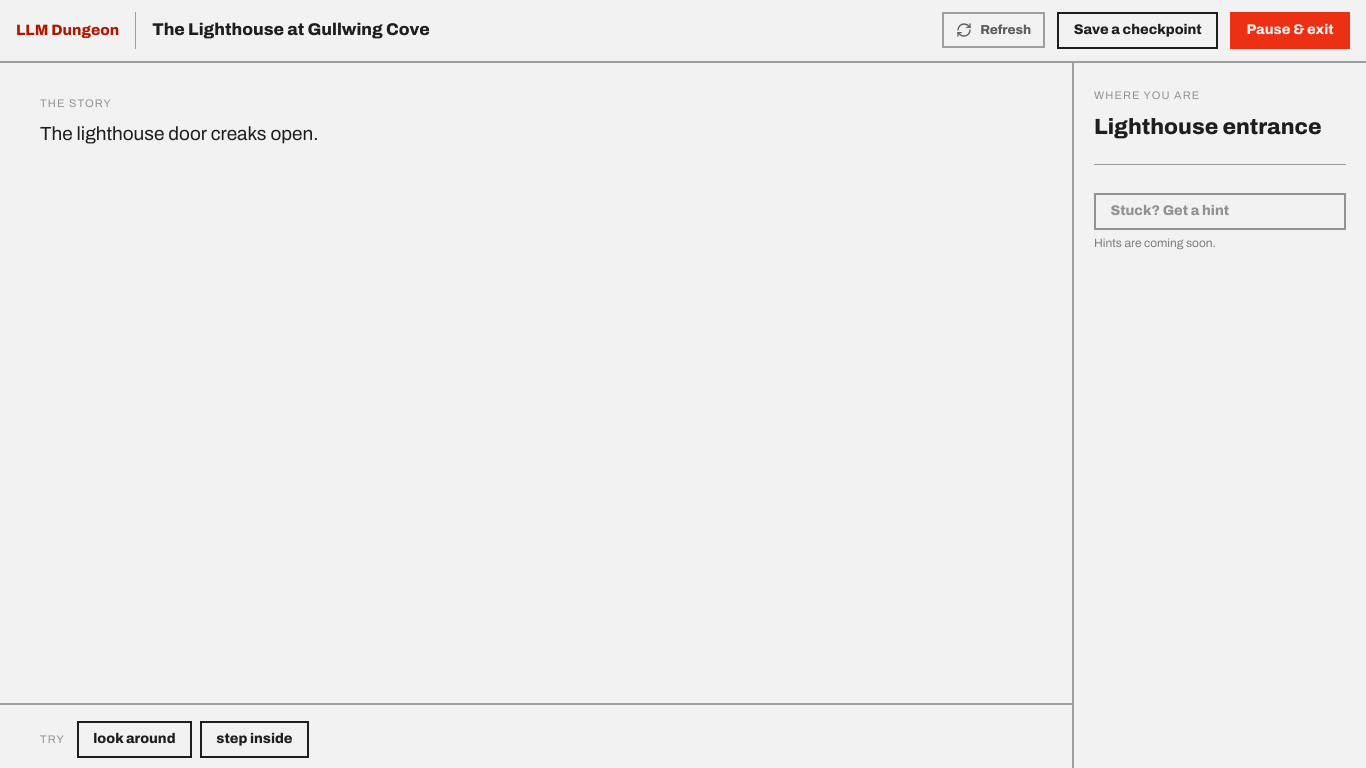
Test case: PlayPage (008-core-gameplay-done) › re-fetches the session and replaces the transcript on a successful refresh (029, FR-009)
Click the button "Refresh" at (994,30), box [942,12,1045,48]
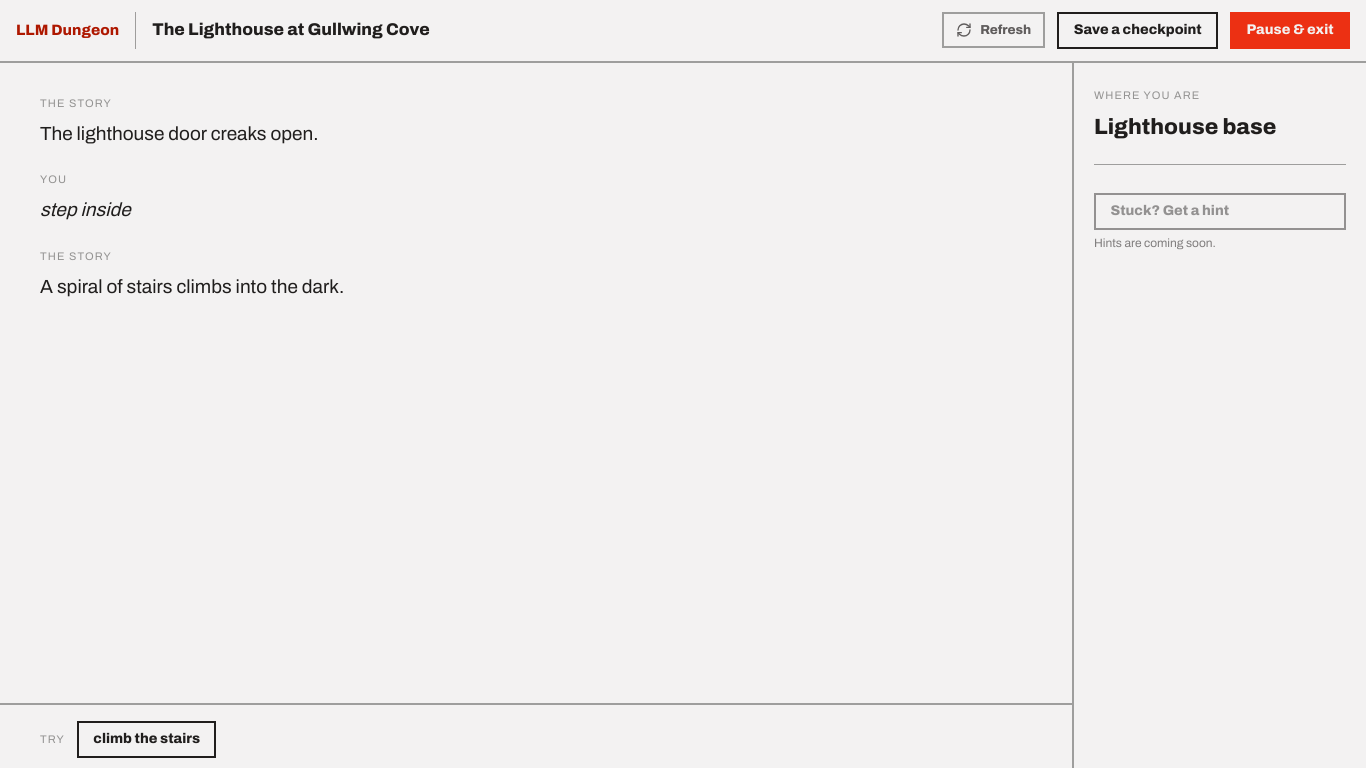
Expected: the text "A spiral of stairs climbs into the dark." is shown, [40,276,344,297]
Expected: the text "Lighthouse base" is shown, [1094,115,1276,139]
